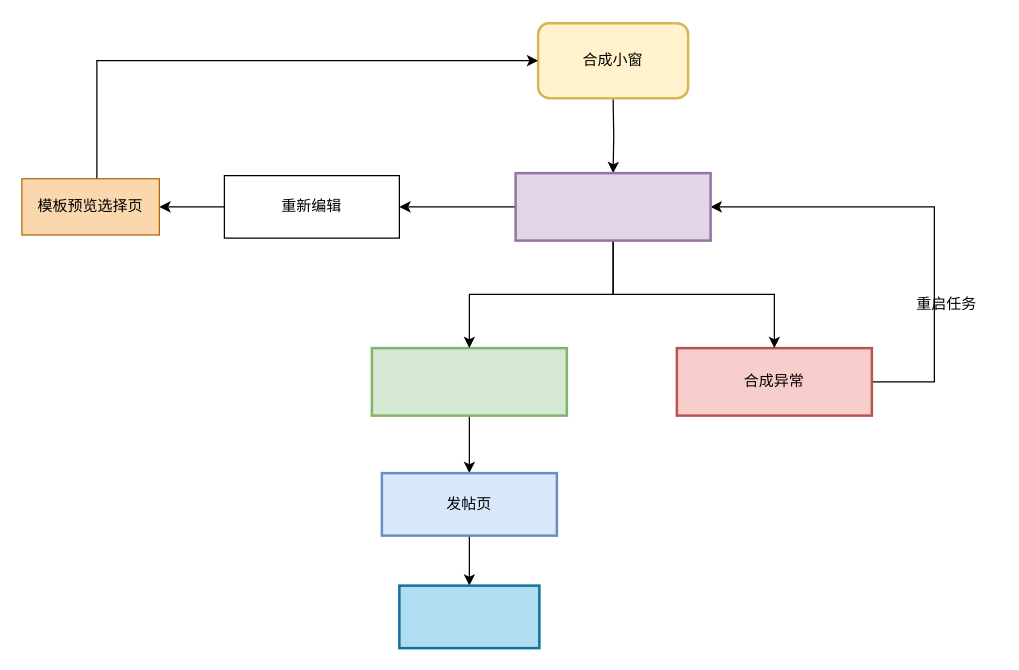
Some shapes in this 1019 by 670 pixel diagram are drawn without their labels. The box of each missing label's shape, as (x1, y1, x2, y2) in pixels:
发视频帖: (398, 584, 540, 649)
合成中: (514, 171, 711, 241)
合成完成: (370, 346, 568, 416)
